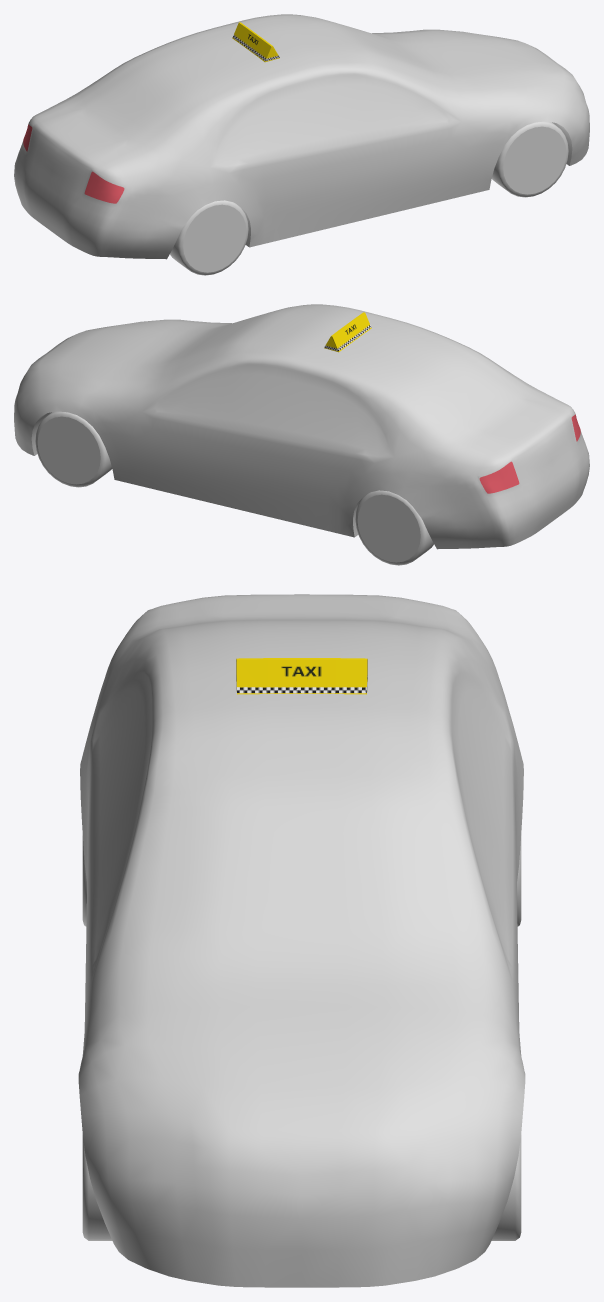
The model's file is TAXI.glb.
3 renders of one model, top to bottom at view 1: azimuth 30°, elevation 25°; view 2: azimuth 150°, elevation 25°; view 3: azimuth 270°, elevation 25°, orthographic. The views are drawn at different scales.
Visible parts, largest first — view 1: body, light; view 2: body, light; view 3: body.
Part boxes in pixels (x1,y1,x2,y2): body: (14,14,589,275); light: (23,124,124,203); body: (14,304,589,565); light: (479,414,580,493); body: (78,594,525,1287).
Size of the model in its own units: 4.89 by 1.59 by 1.81.
3 materials, 1 textured.
